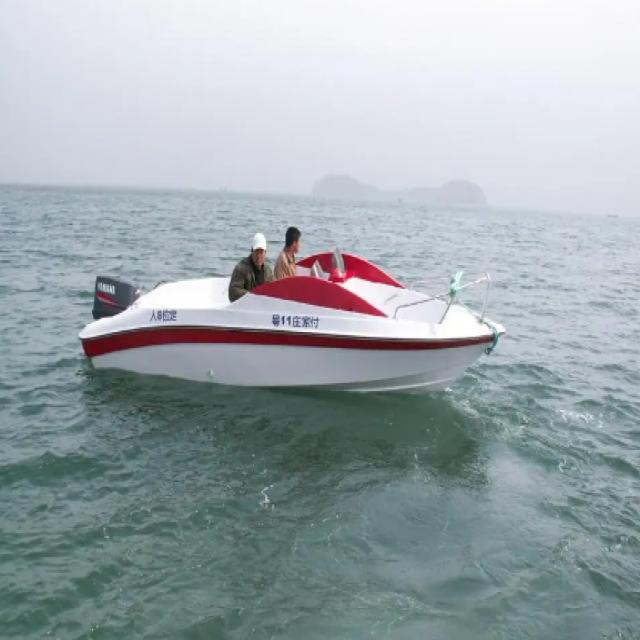houseboat: (77, 216, 506, 397)
